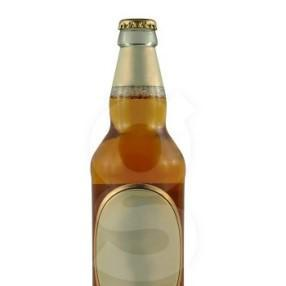beer: (91, 18, 186, 286)
